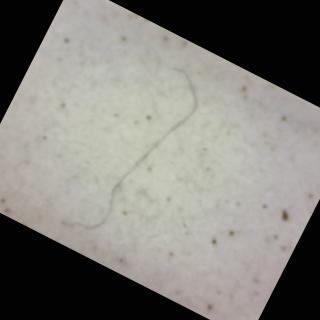Microplastic: (48, 47, 226, 270)
